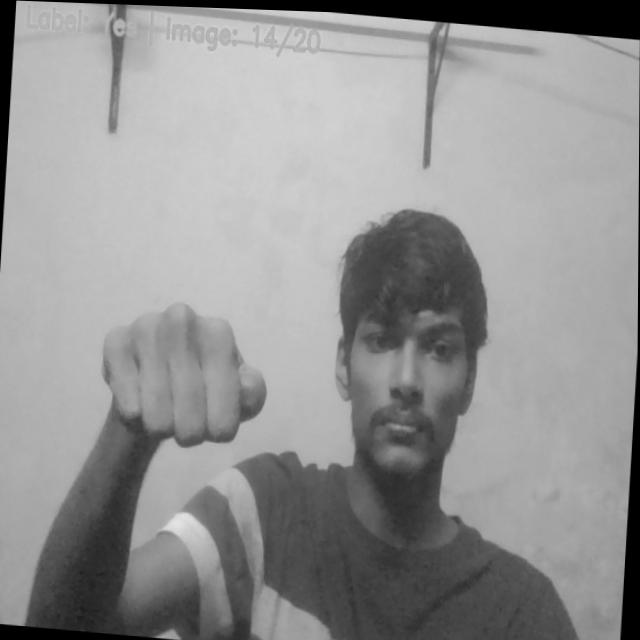Yes: (93, 301, 290, 467)
